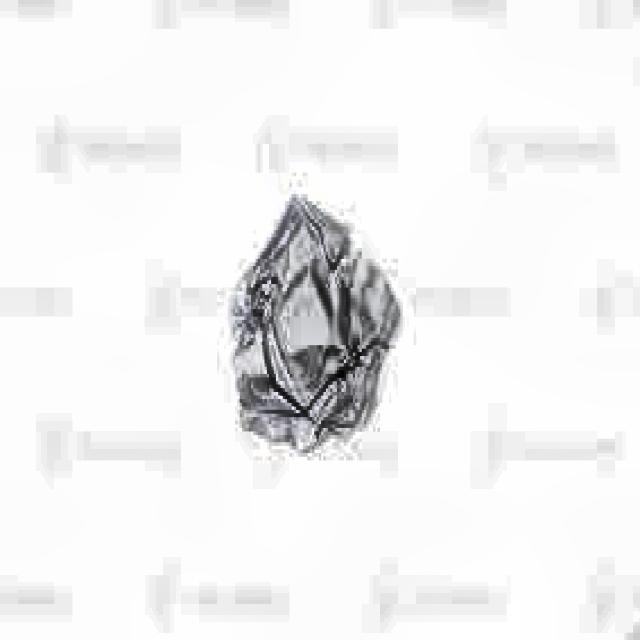Foil: (232, 193, 408, 460)
